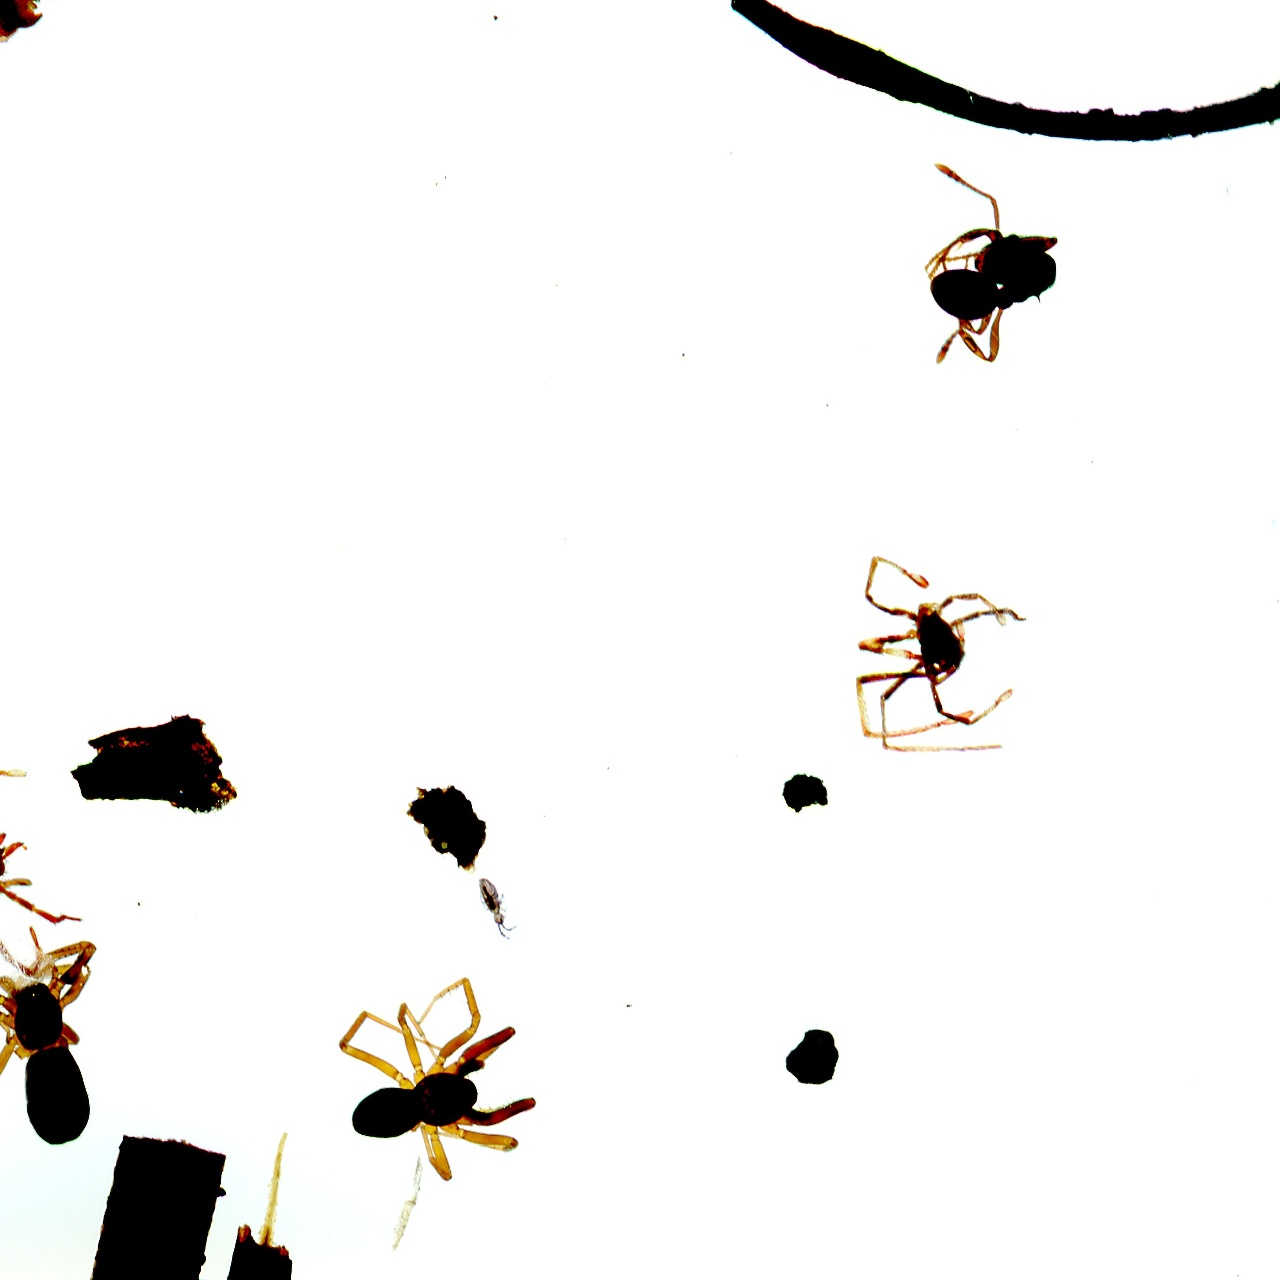arthropod: (330, 971, 547, 1194), (0, 740, 135, 1074), (842, 544, 1037, 765), (907, 146, 1071, 377), (0, 933, 109, 1152), (461, 865, 536, 955)
